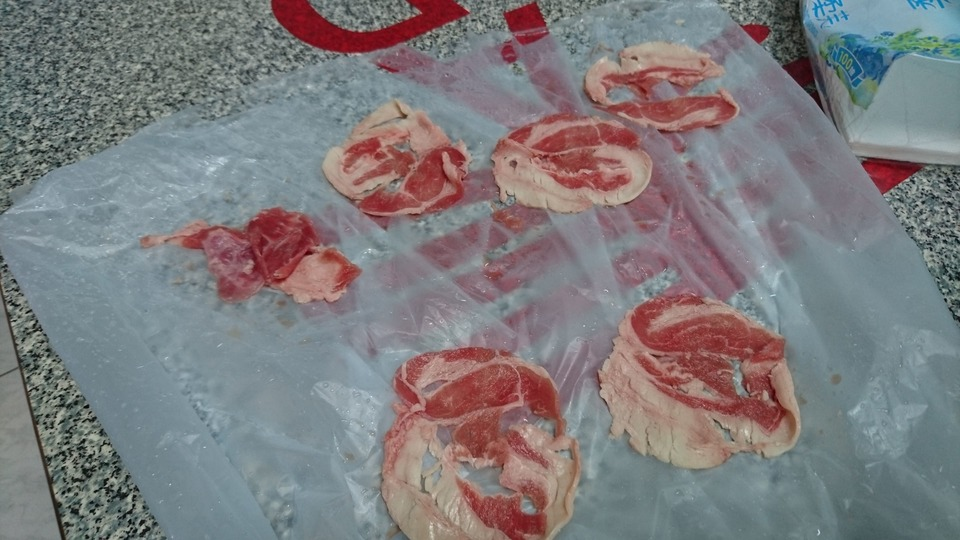restructured meat: (373, 343, 579, 540), (598, 275, 804, 472), (133, 203, 358, 301), (321, 93, 472, 225), (492, 98, 647, 224), (585, 39, 735, 153)
